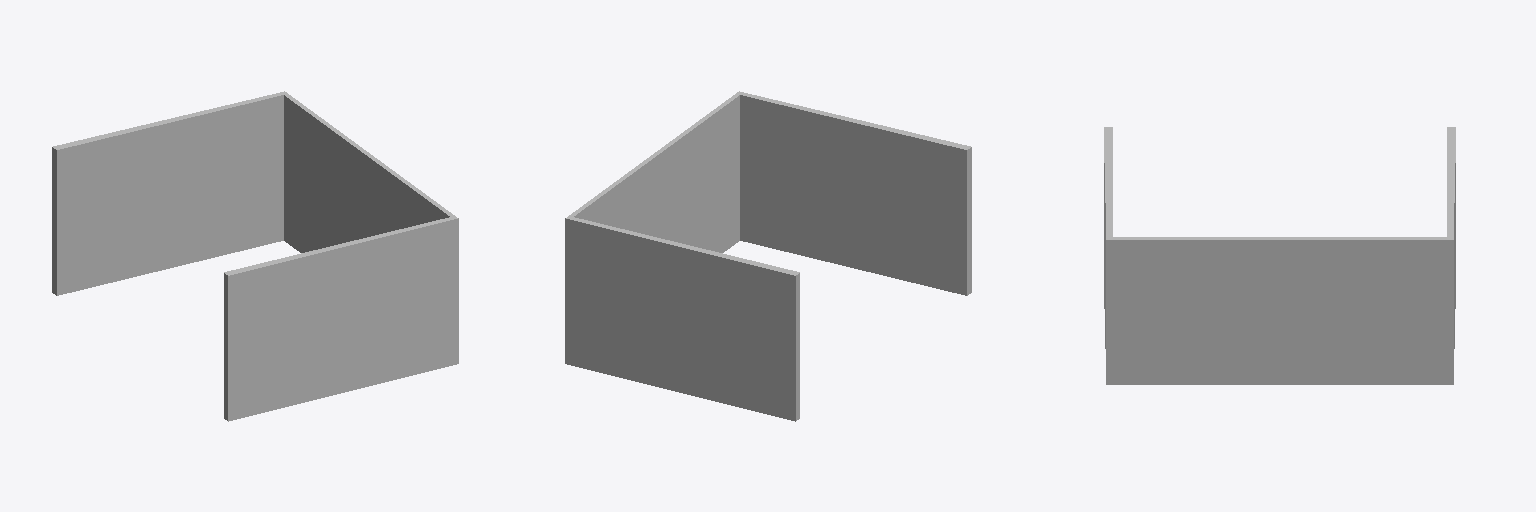
The model's file is walls.obj.
3 renders of one model, left to right at view 1: azimuth 30°, elevation 25°; view 2: azimuth 150°, elevation 25°; view 3: azimuth 270°, elevation 25°, orthographic.
Visible parts, largest first — view 1: Cube; view 2: Cube; view 3: Cube.
Part boxes in pixels (bbox=[...]): Cube: bbox=[52, 91, 458, 421]; Cube: bbox=[565, 91, 971, 421]; Cube: bbox=[1104, 127, 1455, 384].
Size of the model in its own units: 4.49 by 2.7 by 5.92.